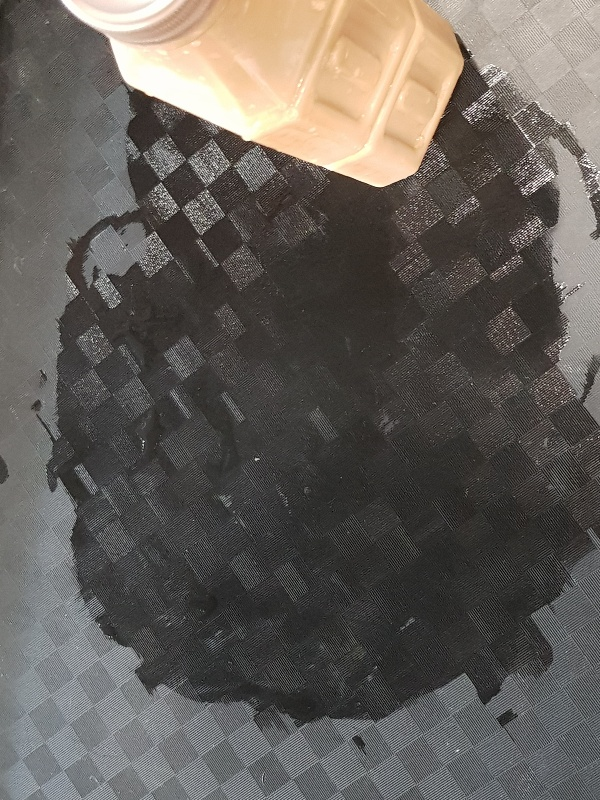Mocha: (59, 1, 465, 189)
